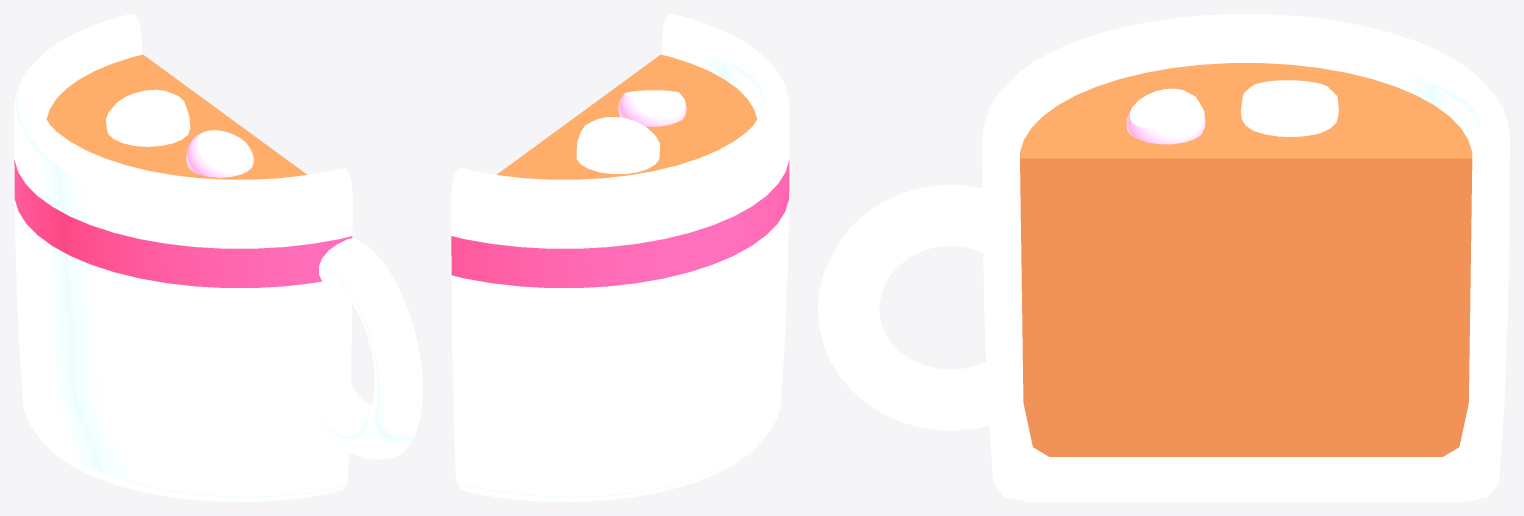
3 views of the same model, side by side, from view 1: azimuth 30°, elevation 25°; view 2: azimuth 150°, elevation 25°; view 3: azimuth 270°, elevation 25° (orthographic). The views are drawn at different scales.
Parts seen in each view (by area): view 1: Cup-left; view 2: Cup-left; view 3: Cup-left.
Part boxes in pixels (x1,y1,x2,y2): Cup-left: (14, 14, 422, 501); Cup-left: (451, 14, 789, 501); Cup-left: (818, 14, 1509, 501).
Size of the model in its own units: 0.0439 by 0.0703 by 0.1152.
